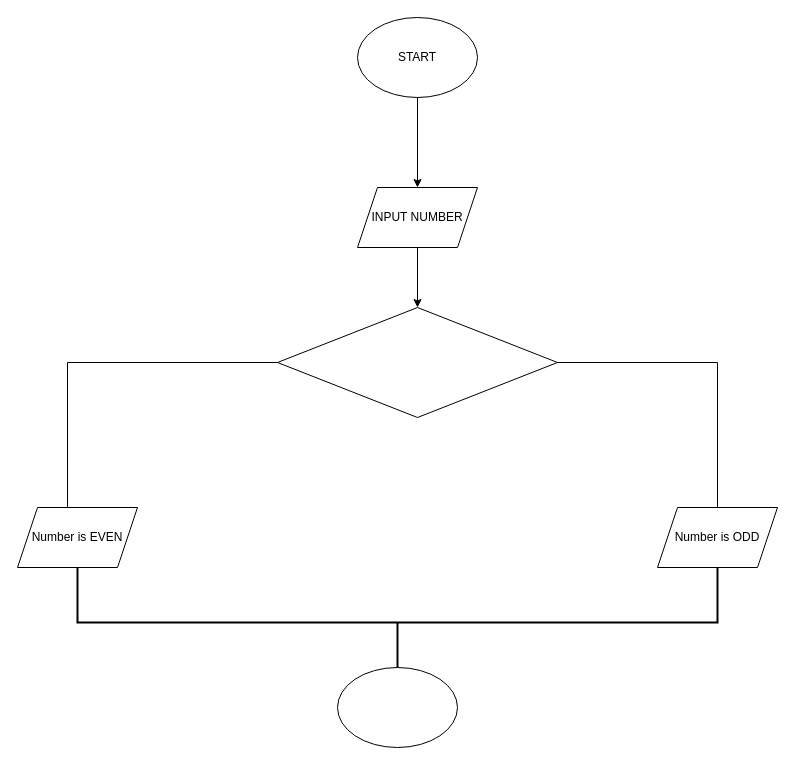
Image size: 795x765. Some labels were removed from this diagram. The centre of each missing label's shape, as x and y in pixels:
CHECK IF THE REMAINDER OF NUMBER /2 IS EQUAL TO 0: pixel 417 362
END: pixel 397 707
